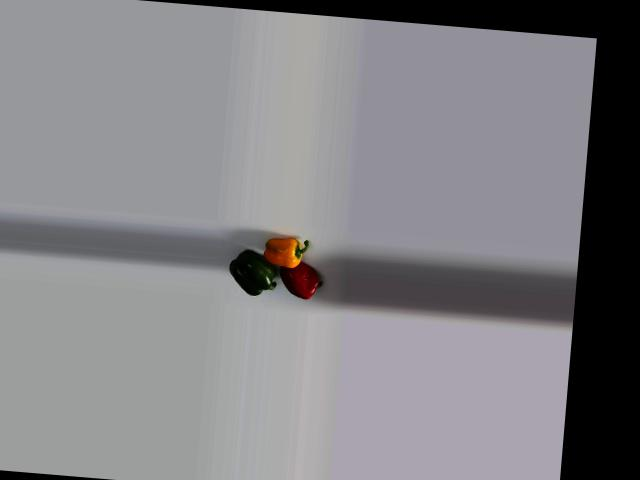bell_pepper: (261, 232, 310, 275)
